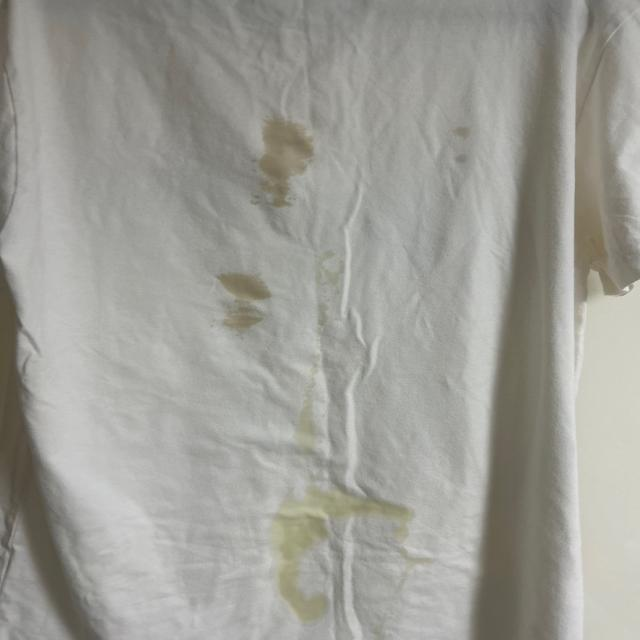stain: (262, 488, 406, 628), (239, 113, 321, 225), (190, 271, 274, 337), (290, 393, 343, 475), (293, 244, 353, 298), (421, 115, 476, 168)
